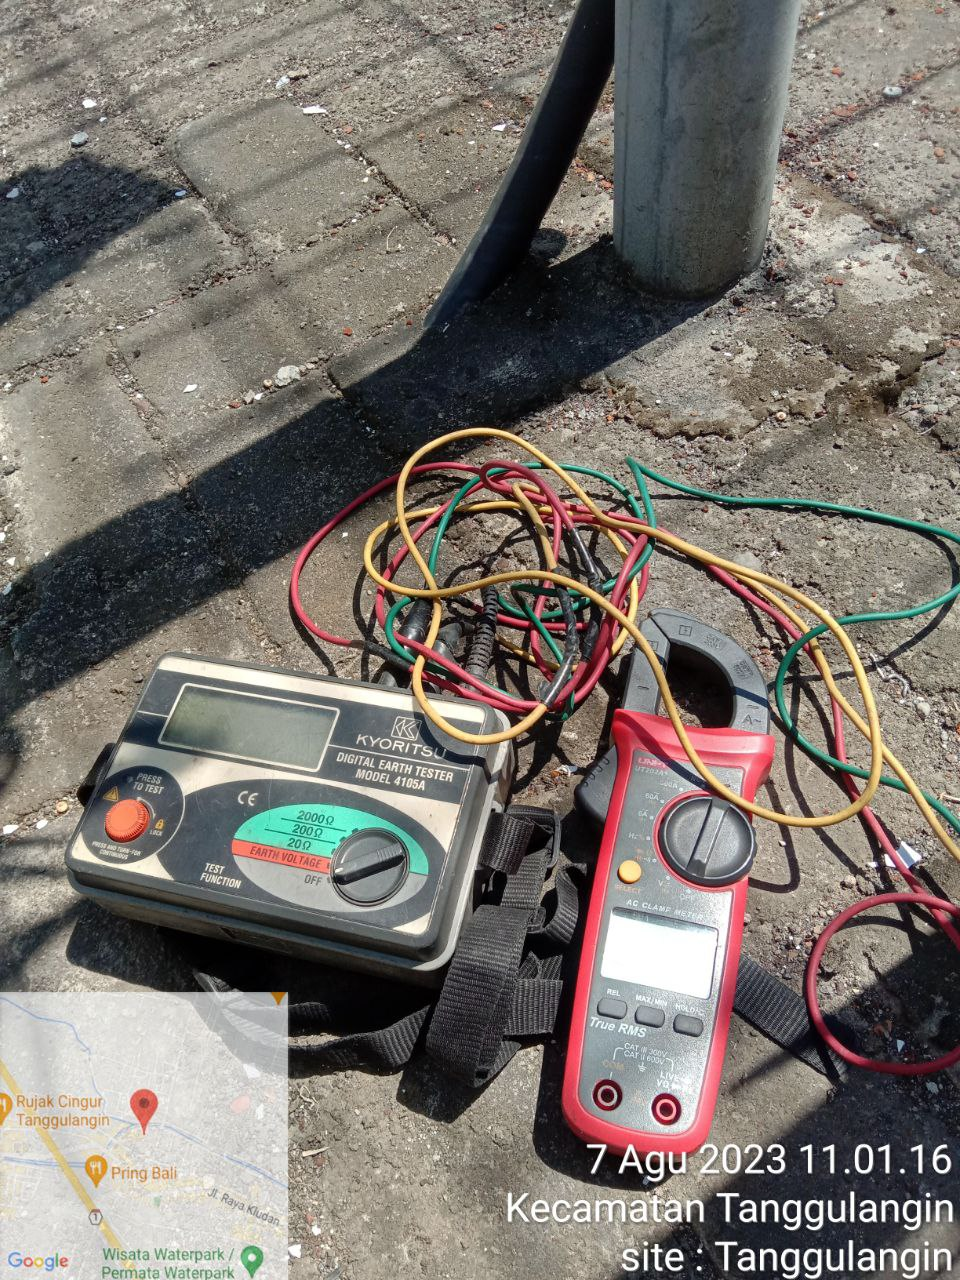EARTH_GROUNDING_TESTER: (65, 645, 514, 984)
TANG_AMPERE: (558, 607, 770, 1144)
